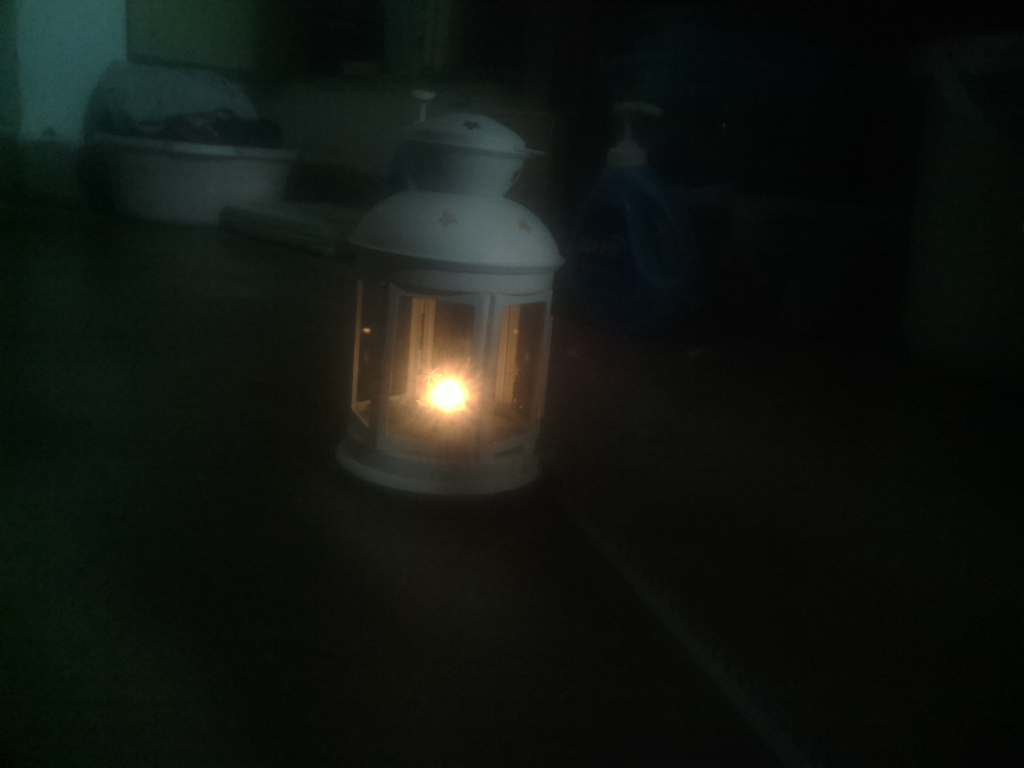fire: (404, 346, 515, 436)
